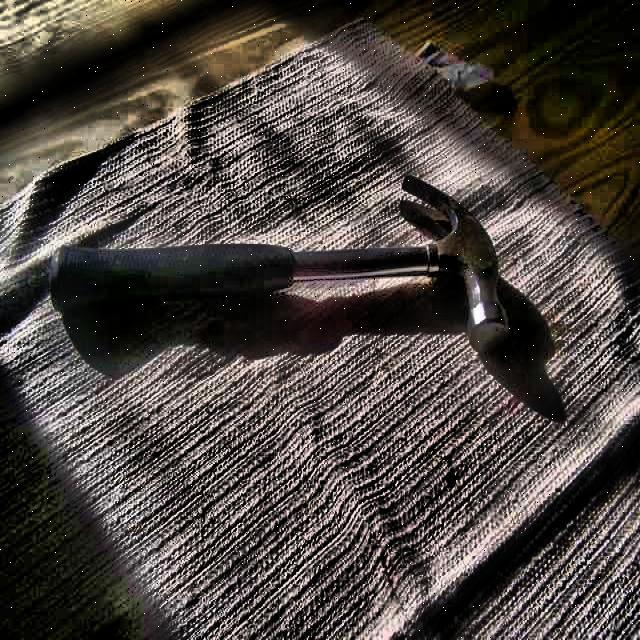hammer: (50, 174, 514, 356)
